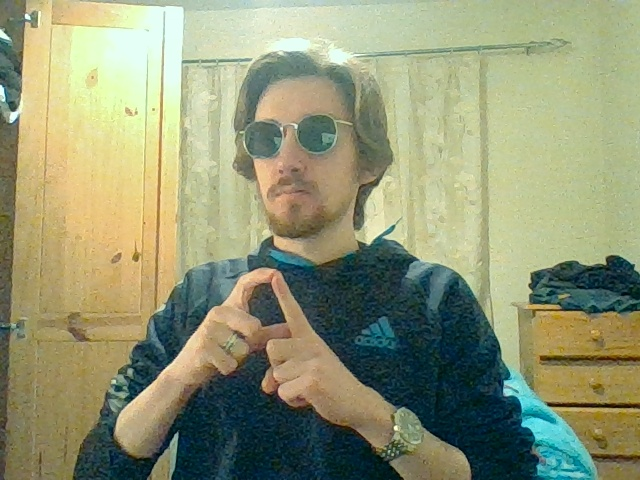daughter: (209, 266, 313, 380)
